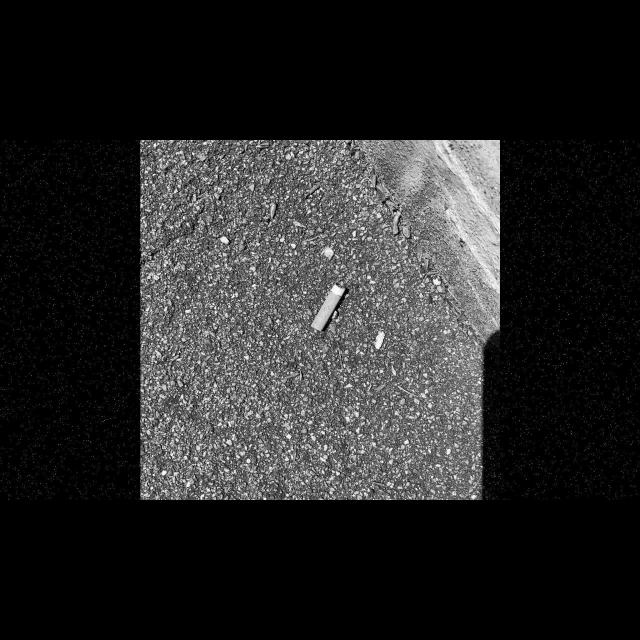cigarette: (311, 282, 346, 331)
